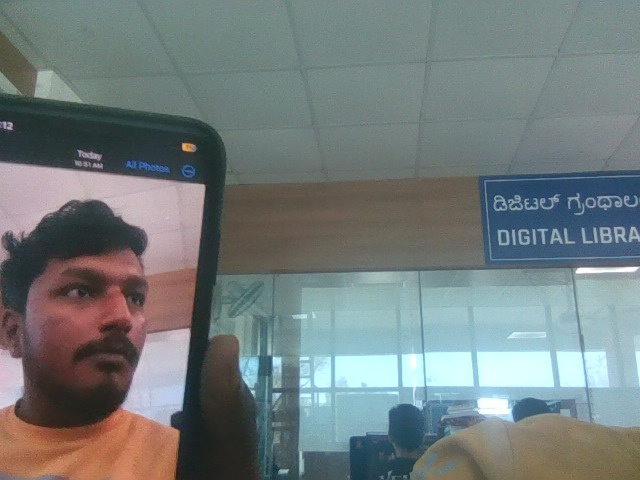fake: (10, 182, 174, 414)
